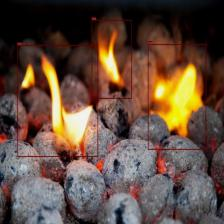fire: (17, 45, 98, 157), (148, 44, 206, 150), (92, 20, 132, 99)
